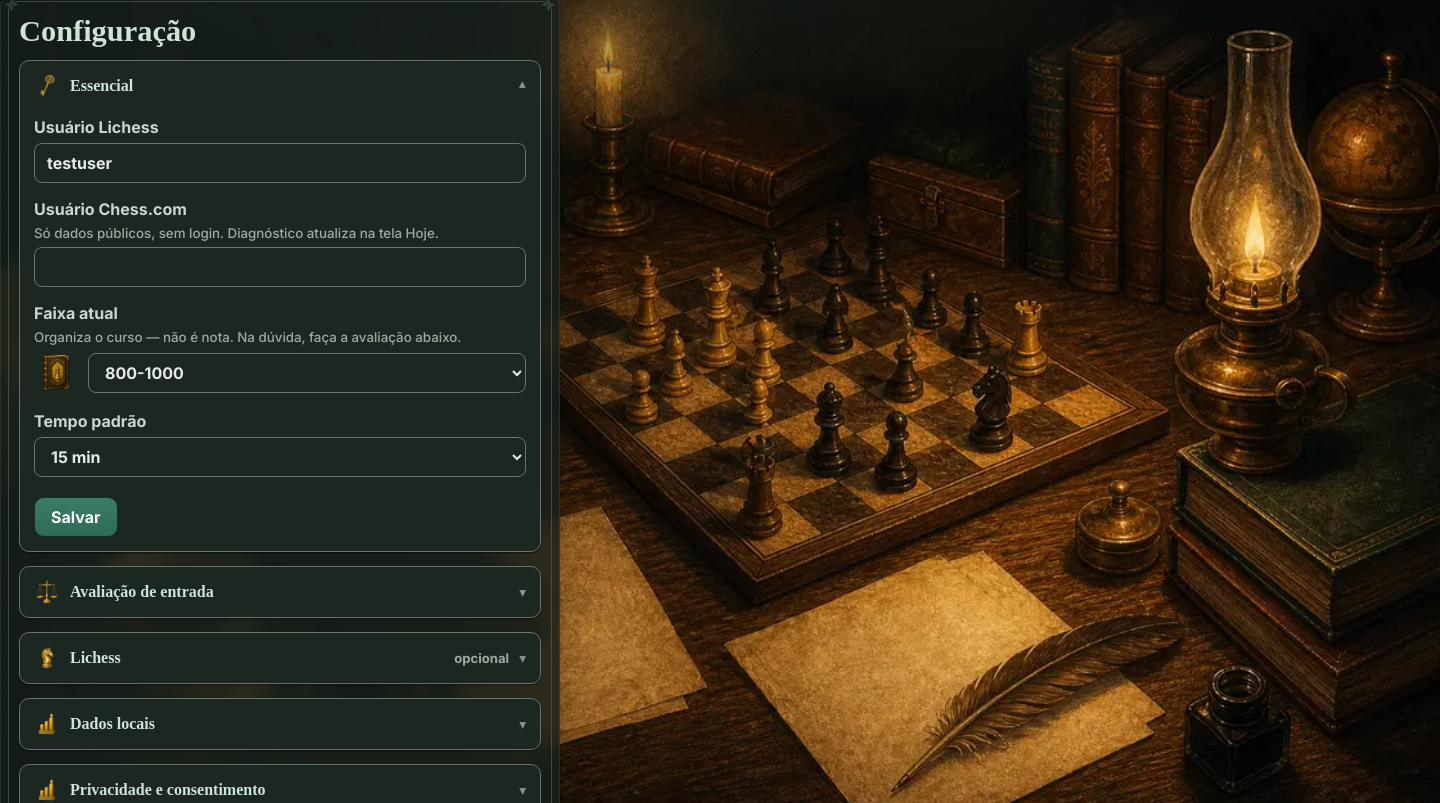
Test: Config — Lichess OAuth › shows "Reconectar Lichess" when a token is present
This screenshot has width=1440, height=803.
Click the heading "Lichess opcional" at (95, 658), box [34, 645, 509, 671]
(page scrolled)
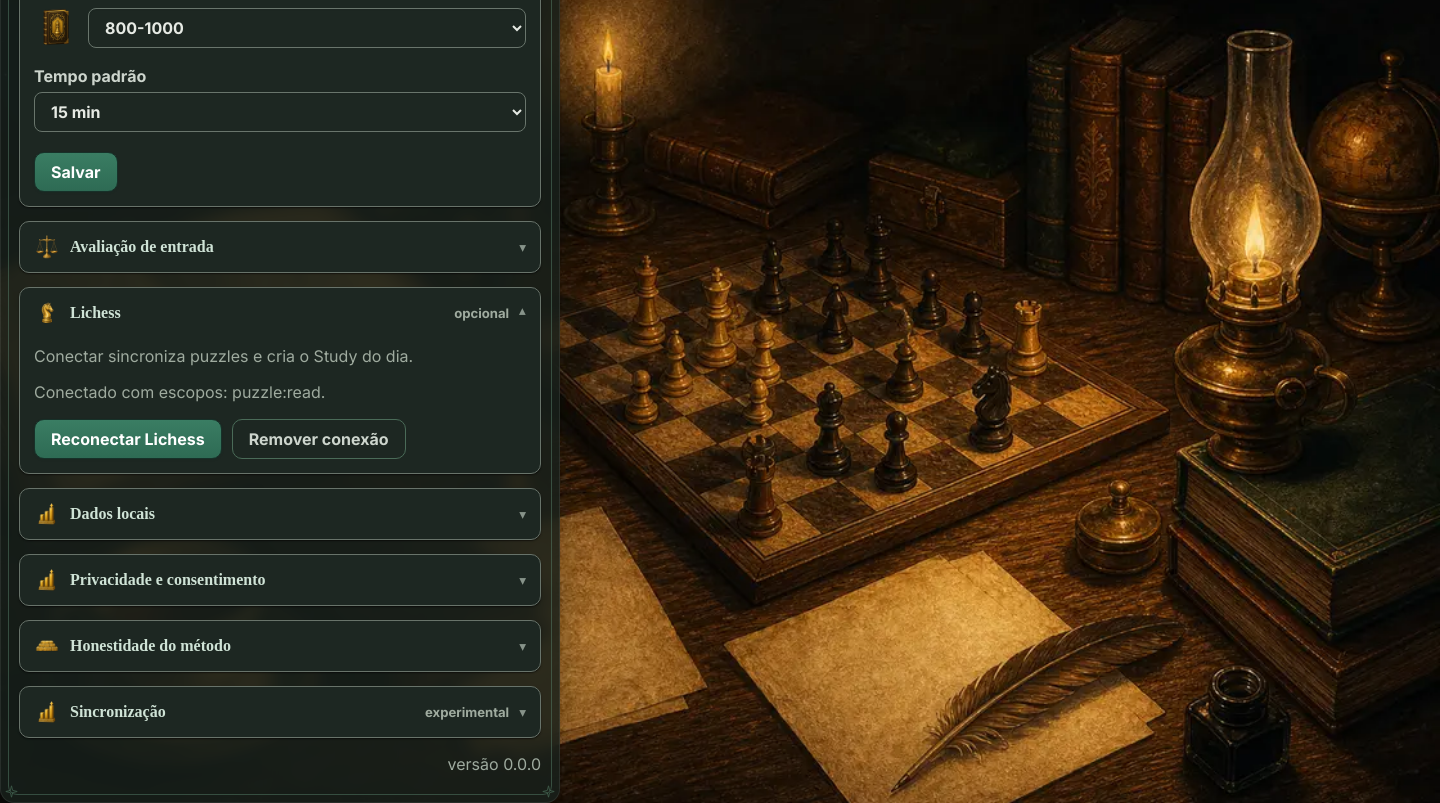
Result: the button "Reconectar Lichess" is shown at [34, 419, 222, 459]
